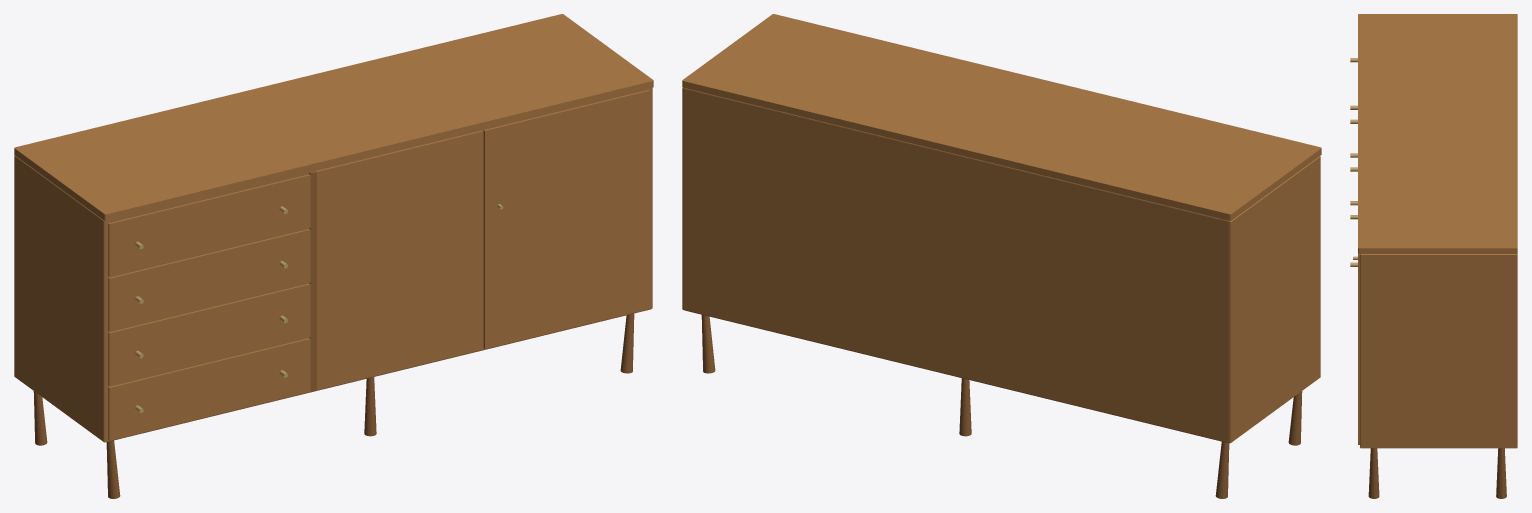
File: teak_bar_credenza_candidate.glb
The picture shows the model from 3 angles, left to right: view 1: azimuth 30°, elevation 25°; view 2: azimuth 150°, elevation 25°; view 3: azimuth 270°, elevation 25°; orthographic projection. The views are drawn at different scales.
Parts seen in each view (by area): view 1: Cube, Cube.006, Cube.007, Cube.001, Cube.002, Cube.003, Cube.004, Cube.005, Cube.008; view 2: Cube.001, Cube; view 3: Cube, Cube.001, Cone.004, Cone.005, Cube.007.
Boxes of the visible parts, <box> form: Cube: <box>14,14,653,220</box>; Cube.006: <box>316,130,483,389</box>; Cube.007: <box>483,90,649,349</box>; Cube.001: <box>14,87,652,442</box>; Cube.002: <box>108,338,310,440</box>; Cube.003: <box>108,283,310,386</box>; Cube.004: <box>108,229,310,331</box>; Cube.005: <box>108,174,310,276</box>; Cube.008: <box>309,171,316,391</box>; Cube.001: <box>682,87,1320,443</box>; Cube: <box>682,14,1321,220</box>; Cube: <box>1358,14,1517,253</box>; Cube.001: <box>1360,254,1517,448</box>; Cone.004: <box>1368,448,1379,498</box>; Cone.005: <box>1496,448,1506,498</box>; Cube.007: <box>1358,254,1359,444</box>.
Size of the model in its own units: 1.56 by 0.7979 by 0.4724.
